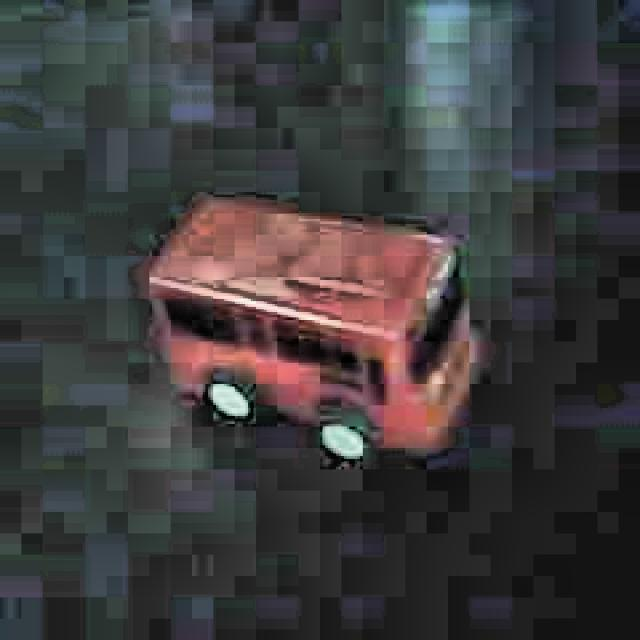bus: (136, 184, 486, 483)
